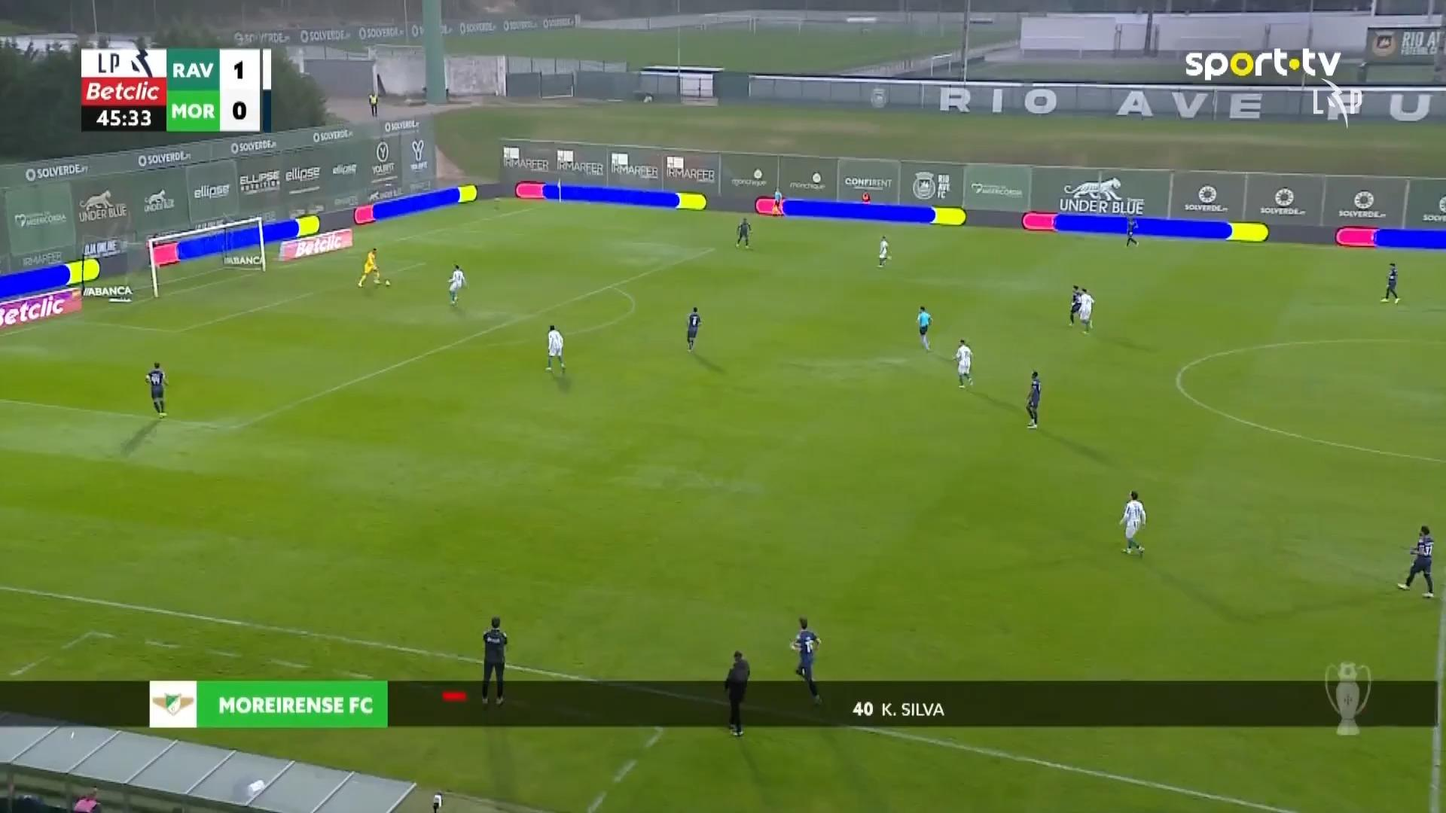ball: (384, 279, 390, 286)
goalkeeper: (356, 247, 390, 288)
player: (789, 616, 822, 705), (1396, 524, 1435, 597), (1118, 489, 1146, 556), (145, 361, 169, 416), (545, 324, 566, 373), (953, 338, 973, 388), (1025, 370, 1041, 428), (1076, 287, 1094, 333), (1380, 262, 1400, 303), (447, 263, 465, 307), (685, 306, 702, 352), (734, 216, 752, 248), (1068, 284, 1081, 326), (1124, 215, 1139, 246), (877, 234, 889, 267)
referee: (480, 616, 508, 706), (723, 650, 749, 736), (916, 305, 932, 350), (772, 187, 783, 213)
